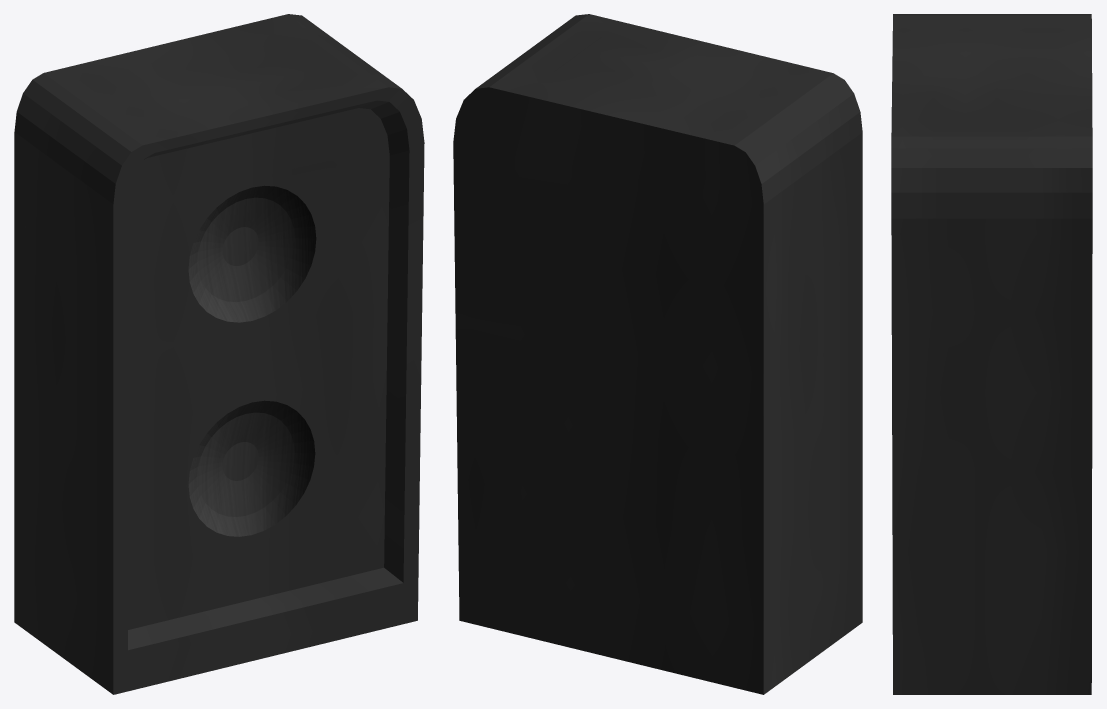
The model's file is Bafle_Chiquito.fbx.
3 renders of one model, left to right at view 1: azimuth 30°, elevation 25°; view 2: azimuth 150°, elevation 25°; view 3: azimuth 270°, elevation 25°, orthographic.
Parts seen in each view (by area): view 1: Bafle_Chiquito; view 2: Bafle_Chiquito; view 3: Bafle_Chiquito.
Boxes of the visible parts, x1,y1,x2,y2 form: Bafle_Chiquito: (14,14,424,694); Bafle_Chiquito: (453,14,862,694); Bafle_Chiquito: (891,14,1092,694).
Bounding box in the file's own units: 1.12 × 1.87 × 0.6254.
Materials: 1 (1 with a texture image).
